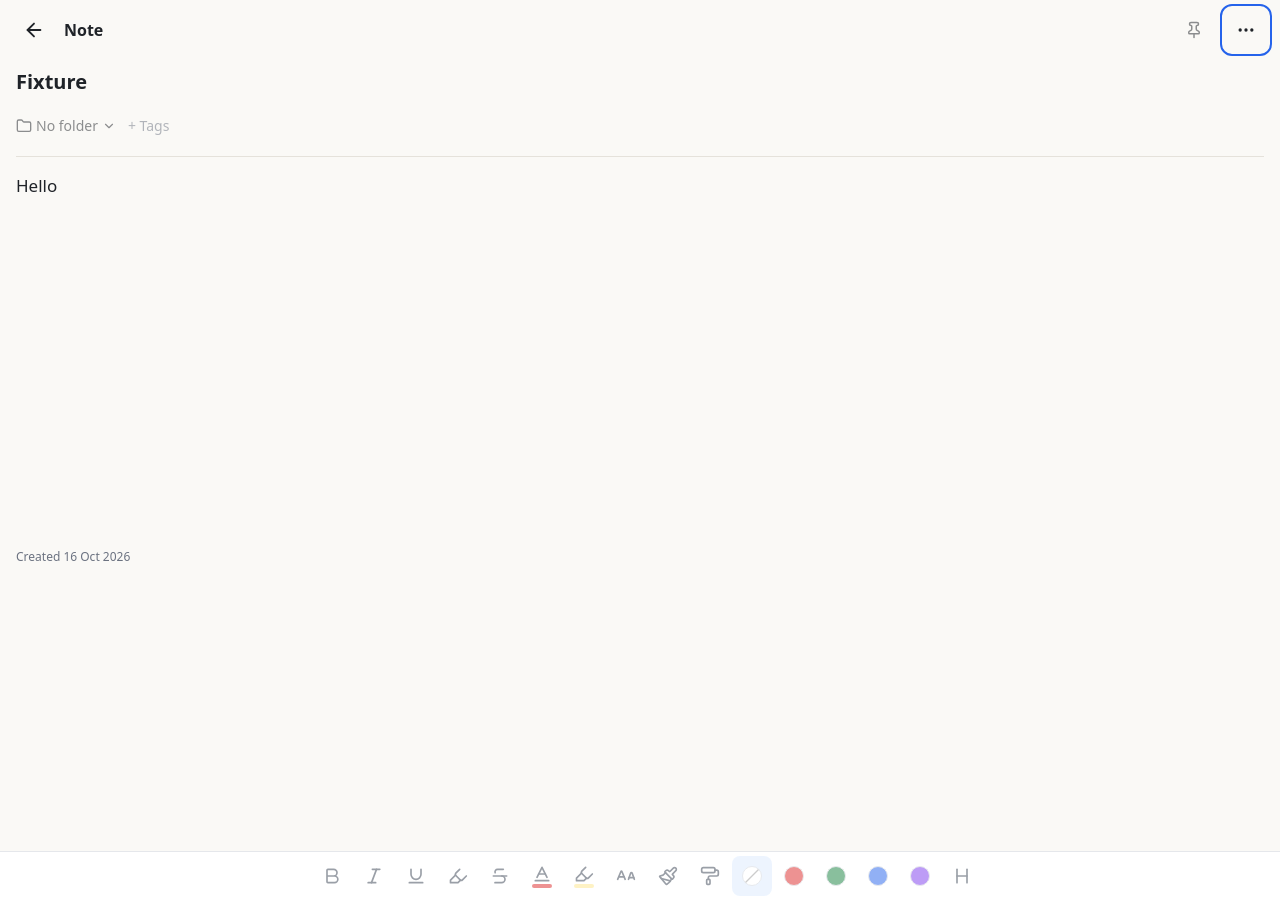
falls back when clipboard is unavailable, works read-only, and removes its textarea
Expected: the button named "Pin note" is disabled, x1=1172 y1=8 x2=1216 y2=52
Expected: the button with aria-label "Edit tags" is disabled, x1=128 y1=104 x2=1264 y2=148
Click the button named "Note options" at [1246, 30], box x1=1224 y1=8 x2=1268 y2=52
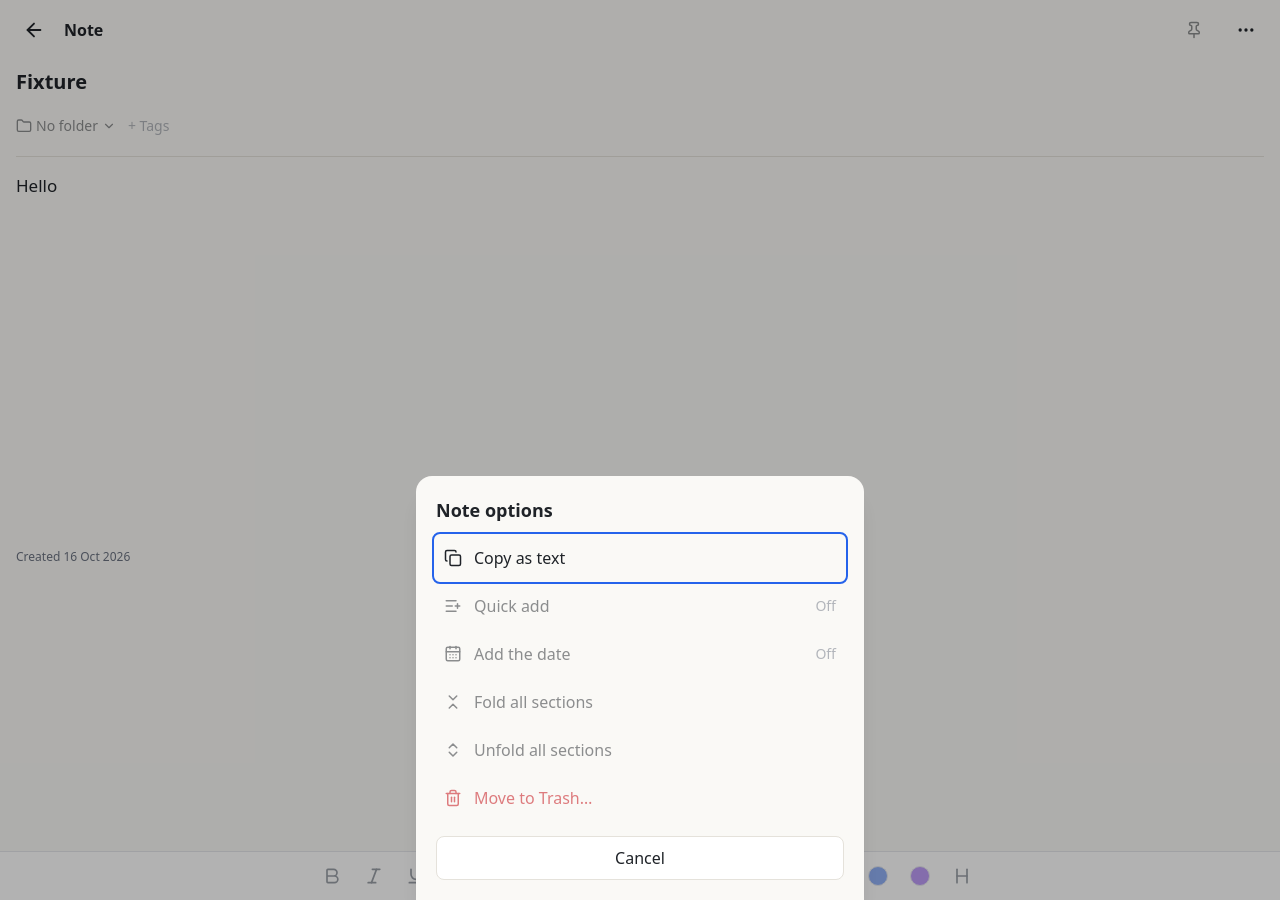
Expected: the button "Copy as text" is enabled
Expected: the button "Move to Trash…" is disabled, x1=436 y1=776 x2=844 y2=820
Click the button "Copy as text" at [520, 558], box x1=436 y1=536 x2=844 y2=580
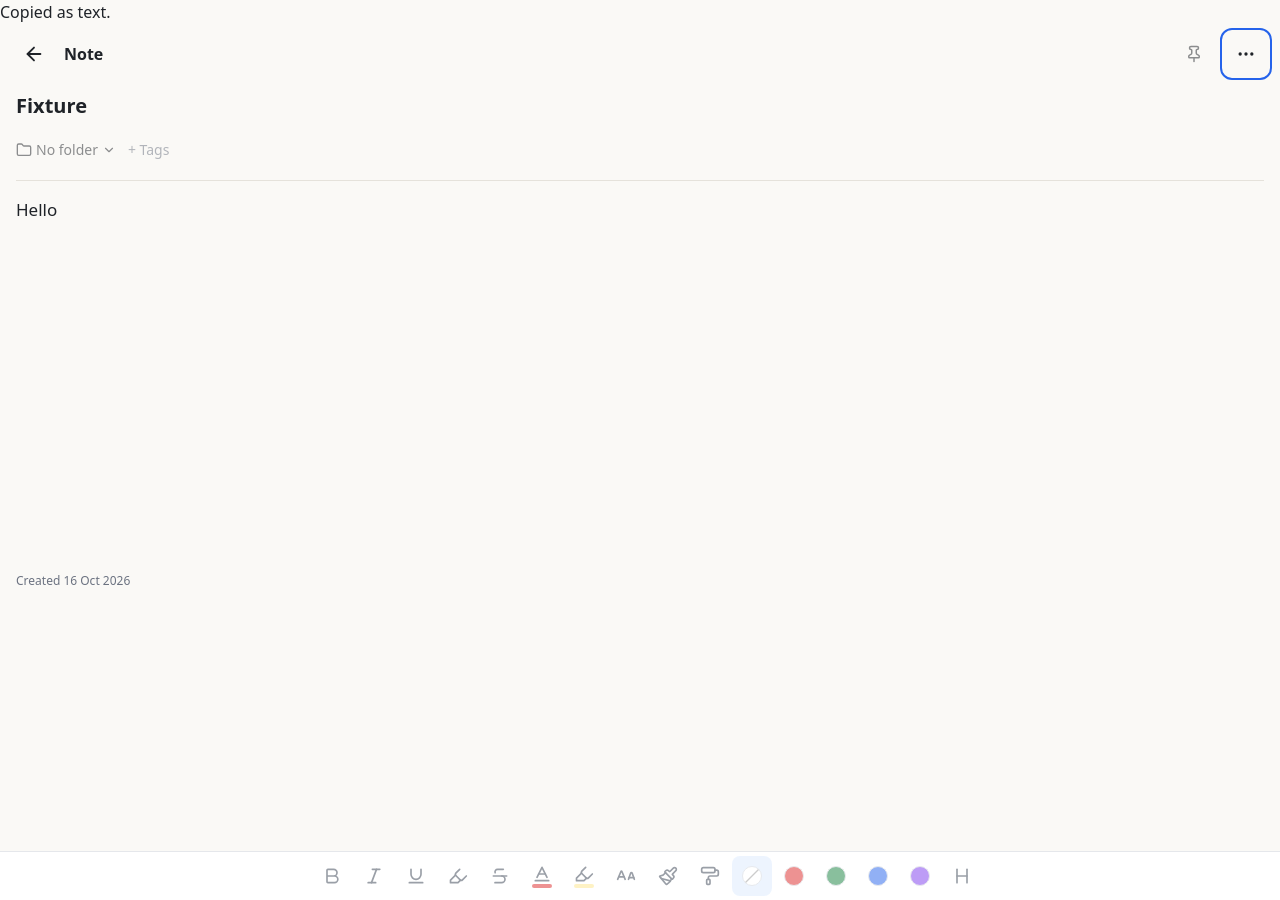
Expected: the text "Copied as text." is shown, x1=0 y1=1 x2=111 y2=23
Expected: the dialog is gone
